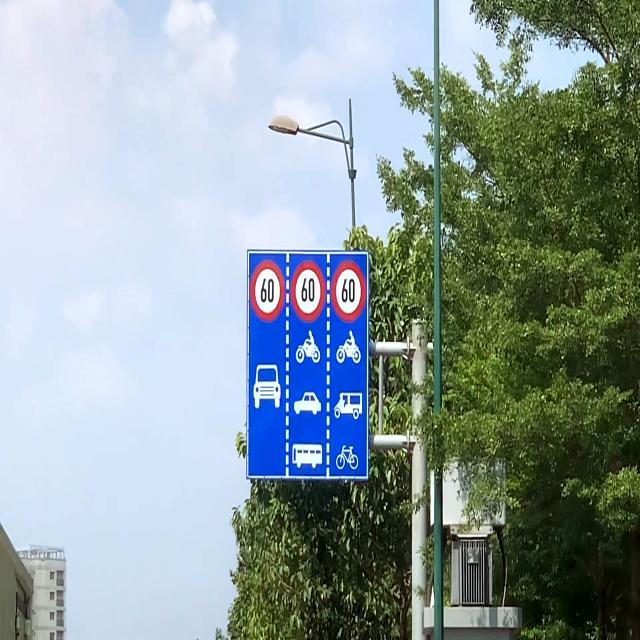P-127c: (249, 254, 369, 478)
